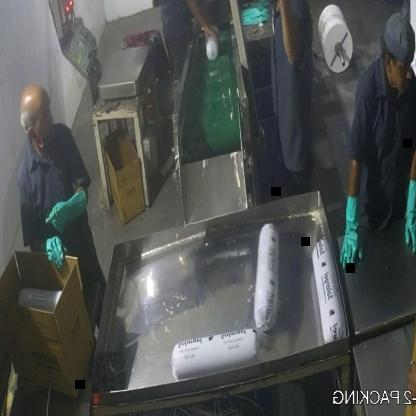glove: (47, 183, 91, 240), (337, 193, 365, 272), (397, 173, 416, 257)
no_glove: (179, 0, 218, 48), (273, 0, 296, 71)
